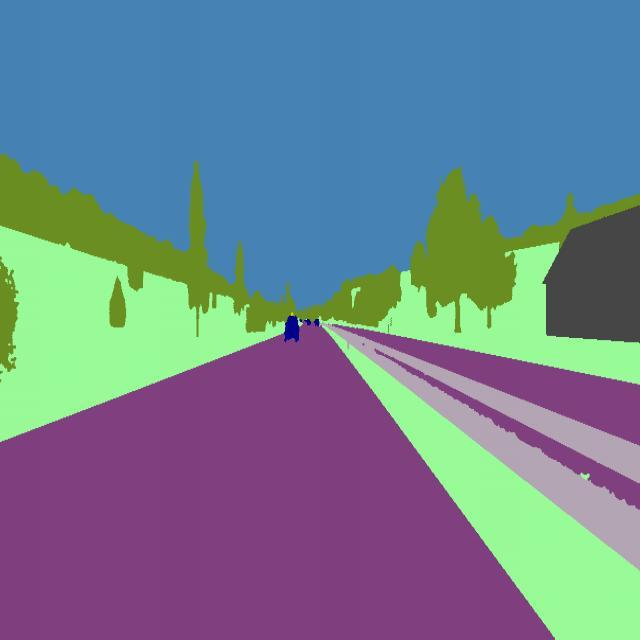safe: (283, 313, 300, 347)
